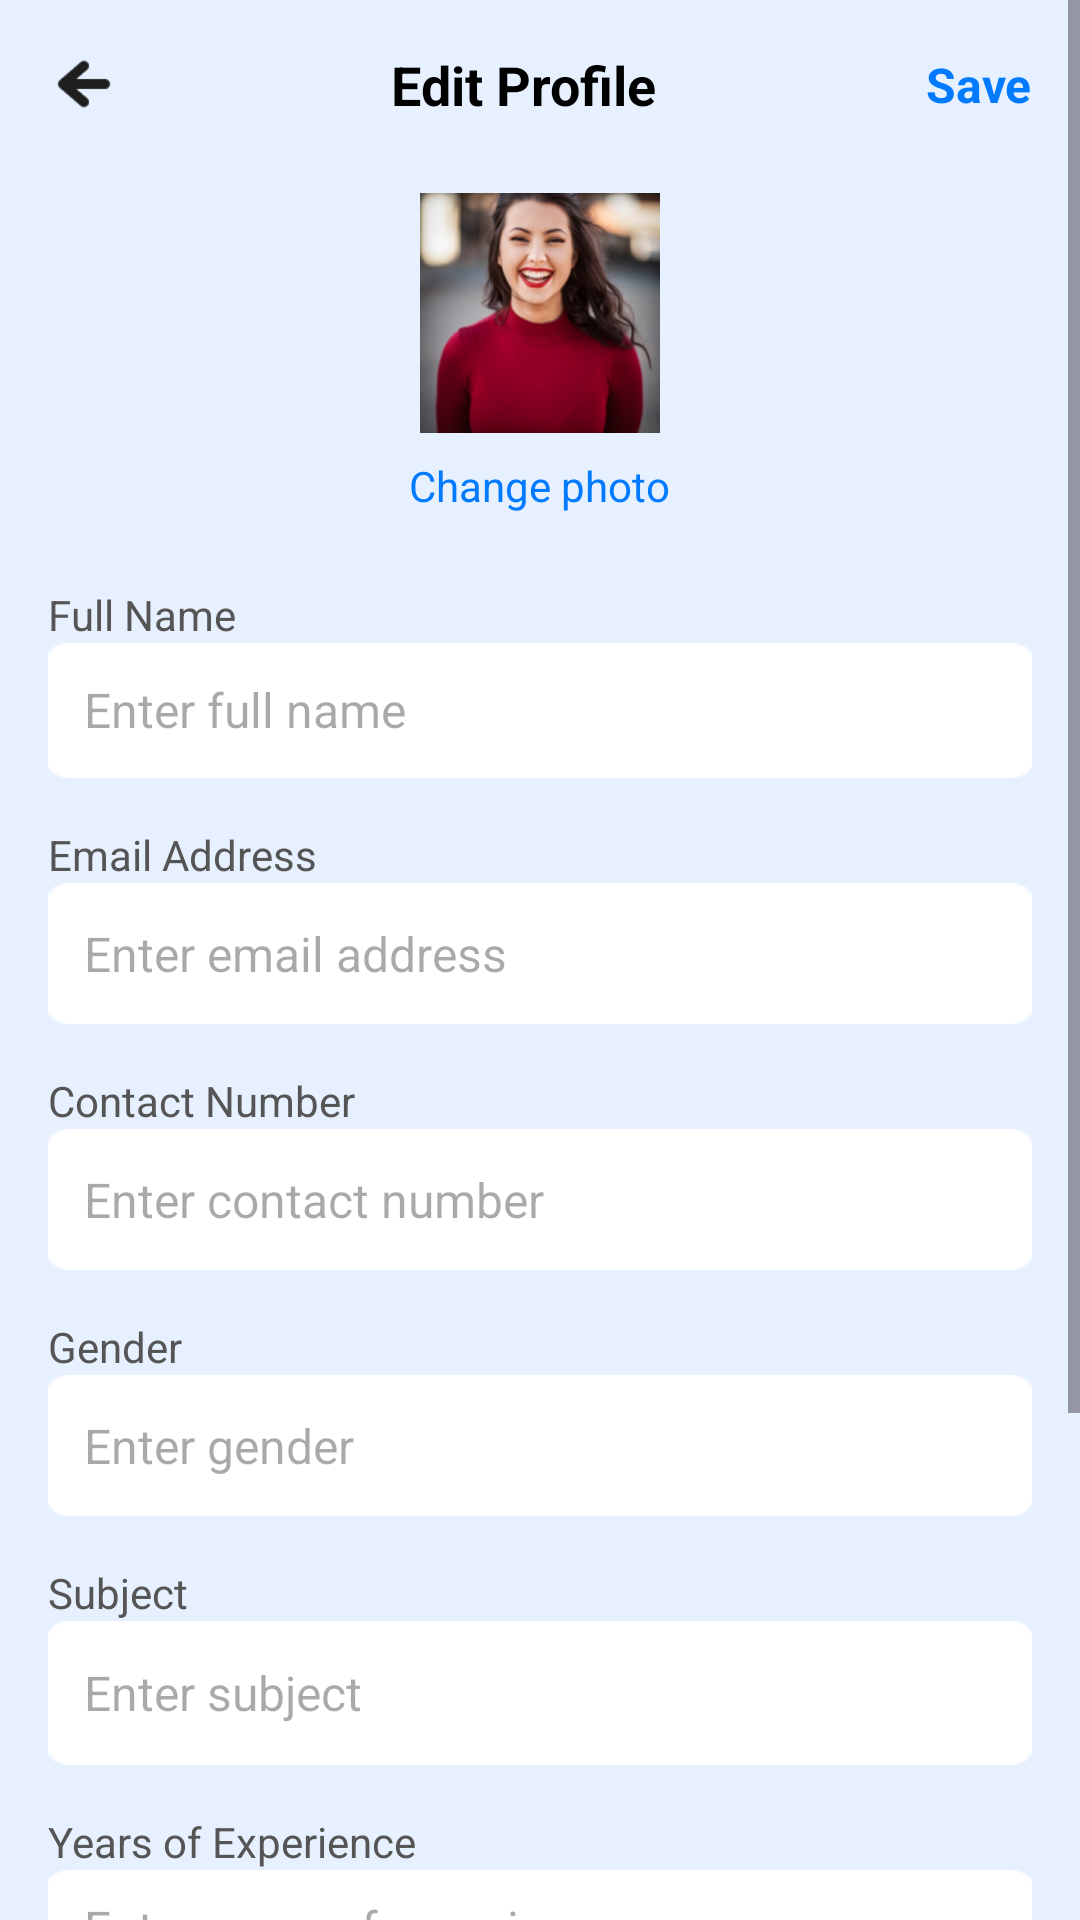

Named icons in this screenshot (1080px×1920px) and their bounding boxes, BBox(x1, y1, x2, y2):
Back: BBox(57, 60, 111, 108)
